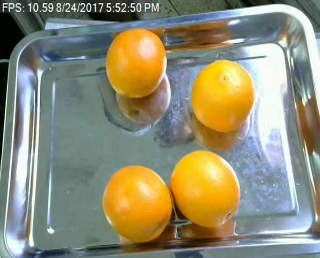Orange: (102, 165, 173, 242), (170, 150, 240, 228), (191, 59, 255, 132), (105, 28, 167, 98)
